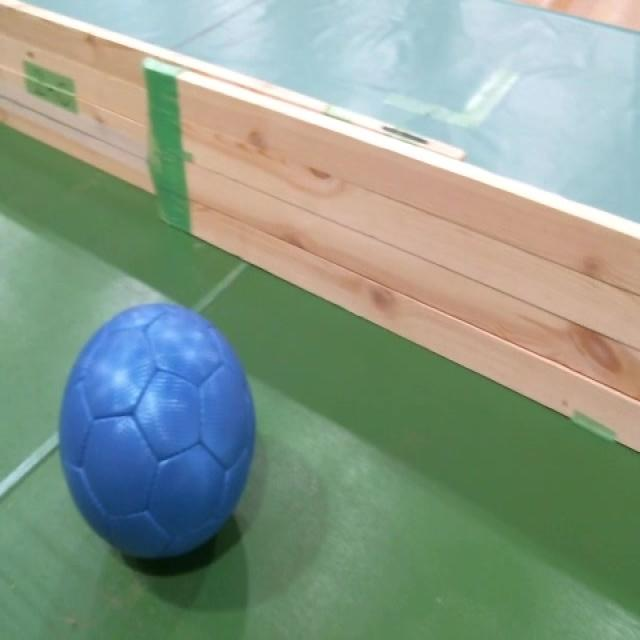blue_ball: (59, 304, 258, 562)
